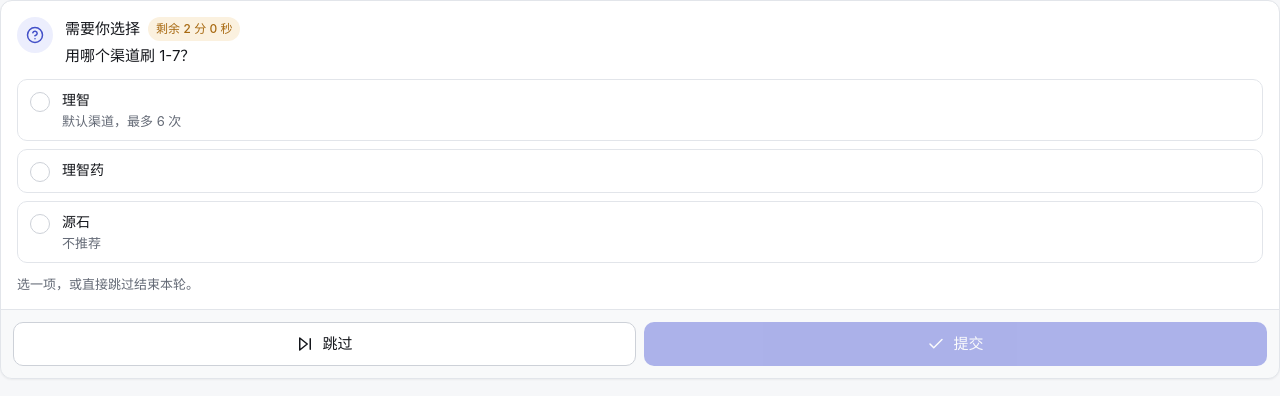
Test: agent question card › skips the question without picking anything and ends this turn (M21)
Click the button "跳过" at {"x": 324, "y": 344}, box [13,322,636,366]
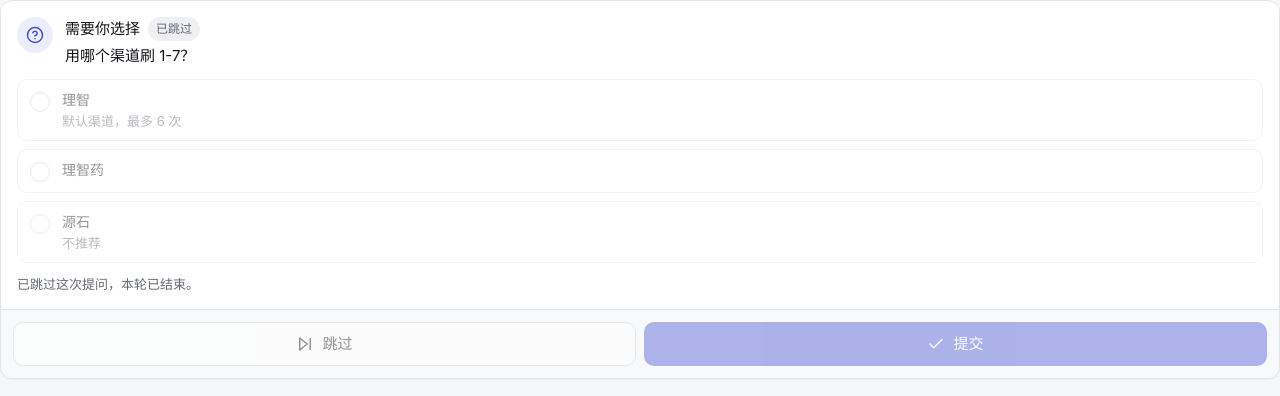
Expected: the text "已跳过这次提问，本轮已结束。" is shown, [17,276,199,292]
